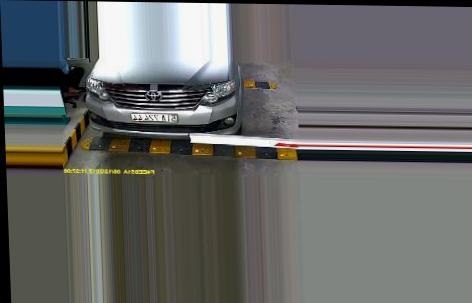License_Plate: (130, 111, 177, 124)
